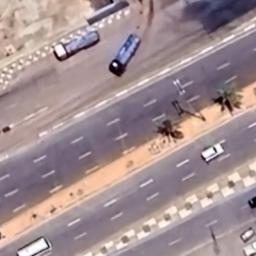others: (16, 236, 52, 256)
truck: (108, 32, 142, 77), (54, 29, 100, 61)
unknown: (241, 226, 255, 242), (242, 245, 256, 256), (248, 196, 256, 210)
van: (200, 142, 224, 164)
